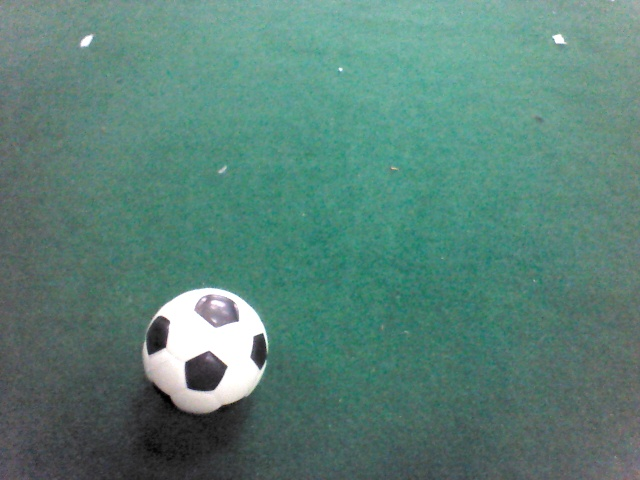ball: (141, 284, 269, 415)
